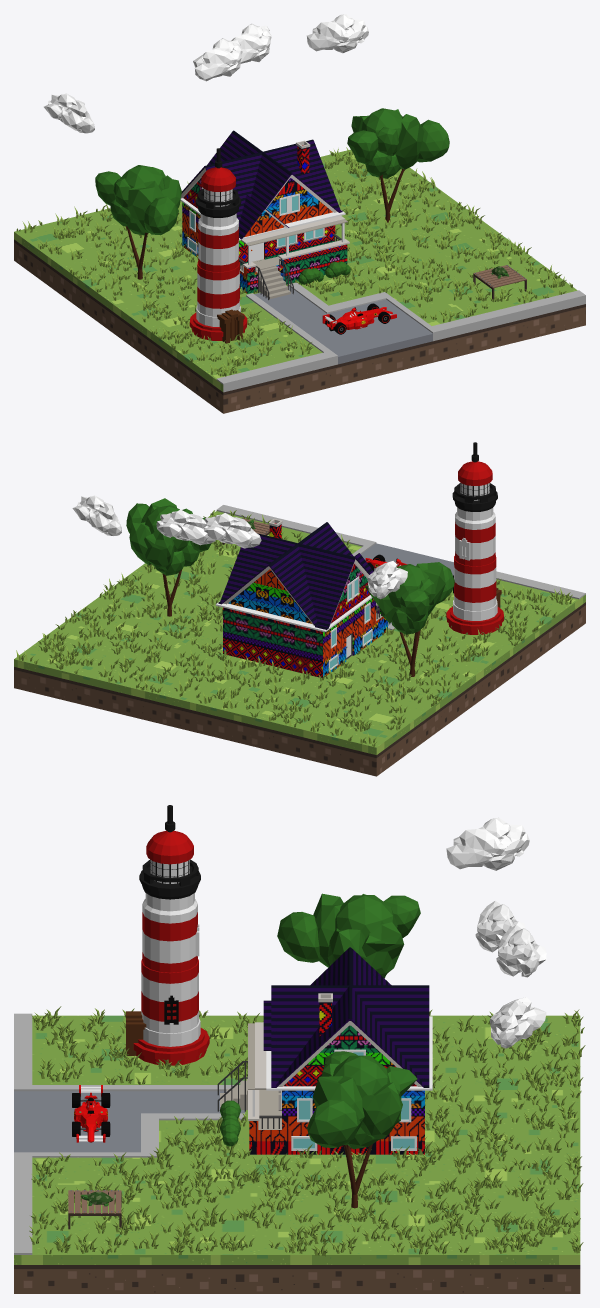
The picture shows the model from 3 angles, top to bottom: view 1: azimuth 30°, elevation 25°; view 2: azimuth 150°, elevation 25°; view 3: azimuth 270°, elevation 25°; orthographic projection. The views are drawn at different scales.
Parts seen in each view (by area): view 1: Cube.006, Circle.012_Grass_0.192, Cube.966, OBJRANDOM_LIGHTHOUSE, Cube.007, tree, tree.001, VEHICLES_FORMULA_1, Cube.009; view 2: Cube.006, Cube.966, Circle.012_Grass_0.192, OBJRANDOM_LIGHTHOUSE, Cube.007, tree.001, tree; view 3: Cube.006, Circle.012_Grass_0.192, Cube.966, OBJRANDOM_LIGHTHOUSE, tree, Cube.007, tree.001, VEHICLES_FORMULA_1, Cube.009.
Part boxes in pixels (x1,y1,x2,y2): Cube.006: (14,149,585,413); Circle.012_Grass_0.192: (16,147,573,376); Cube.966: (180,130,349,300); OBJRANDOM_LIGHTHOUSE: (189,148,247,343); Cube.007: (44,14,368,133); tree: (347,108,449,222); tree.001: (95,165,181,279); VEHICLES_FORMULA_1: (322,303,396,334); Cube.009: (473,265,526,299); Cube.006: (14,505,585,776); Cube.966: (215,519,387,678); Circle.012_Grass_0.192: (16,510,572,746); OBJRANDOM_LIGHTHOUSE: (446,442,503,634); Cube.007: (72,495,407,599); tree.001: (365,562,454,676); tree: (126,498,211,616); Cube.006: (14,1013,580,1293); Circle.012_Grass_0.192: (29,1006,585,1256); Cube.966: (217,947,432,1154); OBJRANDOM_LIGHTHOUSE: (126,805,209,1065); tree: (307,1051,417,1208); Cube.007: (446,817,546,1048); tree.001: (277,893,420,978); VEHICLES_FORMULA_1: (72,1085,110,1142); Cube.009: (68,1190,121,1229).
Bounding box in the file's own units: 4071 × 2265 × 4040.
Materials: 49 (7 with a texture image).
